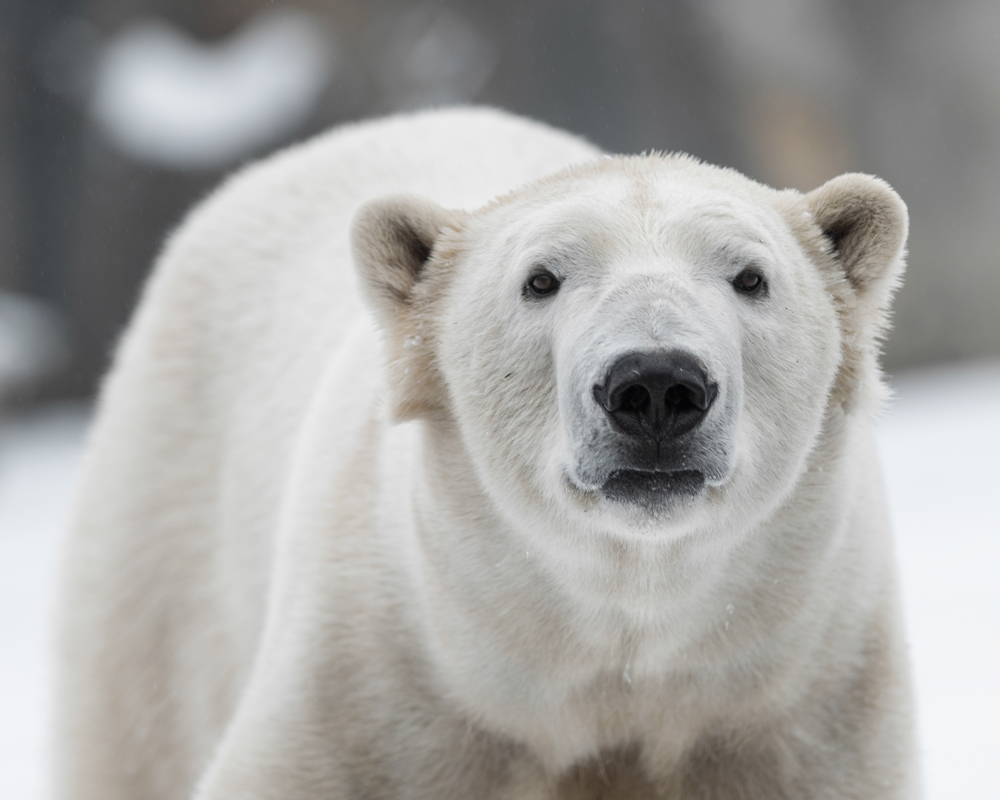PolarBear: (93, 91, 947, 800)
